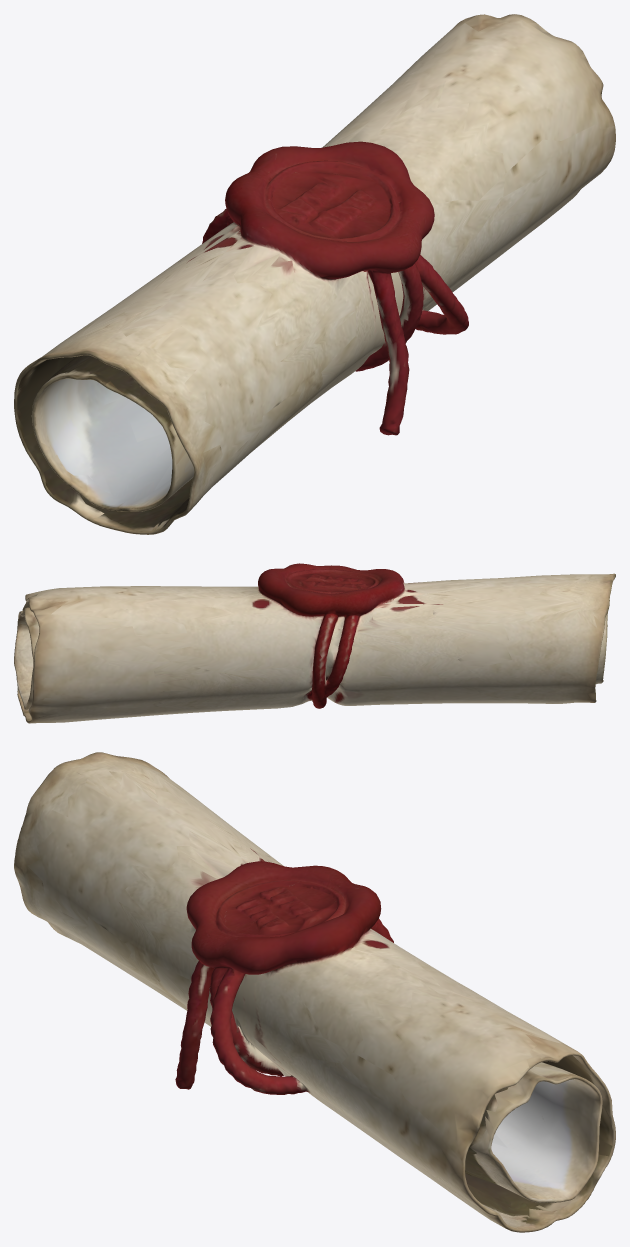
Rendered from Heirloom_BK1.fbx.
3 renders of one model, top to bottom at view 1: azimuth 30°, elevation 25°; view 2: azimuth 150°, elevation 25°; view 3: azimuth 270°, elevation 25°, orthographic. The views are drawn at different scales.
Visible parts, largest first — view 1: Body_BK1; view 2: Body_BK1; view 3: Body_BK1.
Boxes of the visible parts, box(x1,y1,x2,y2) form: Body_BK1: box(14, 14, 615, 534); Body_BK1: box(14, 563, 615, 723); Body_BK1: box(14, 752, 615, 1232).
Size of the model in its own units: 0.24 by 0.0651 by 0.1843.
